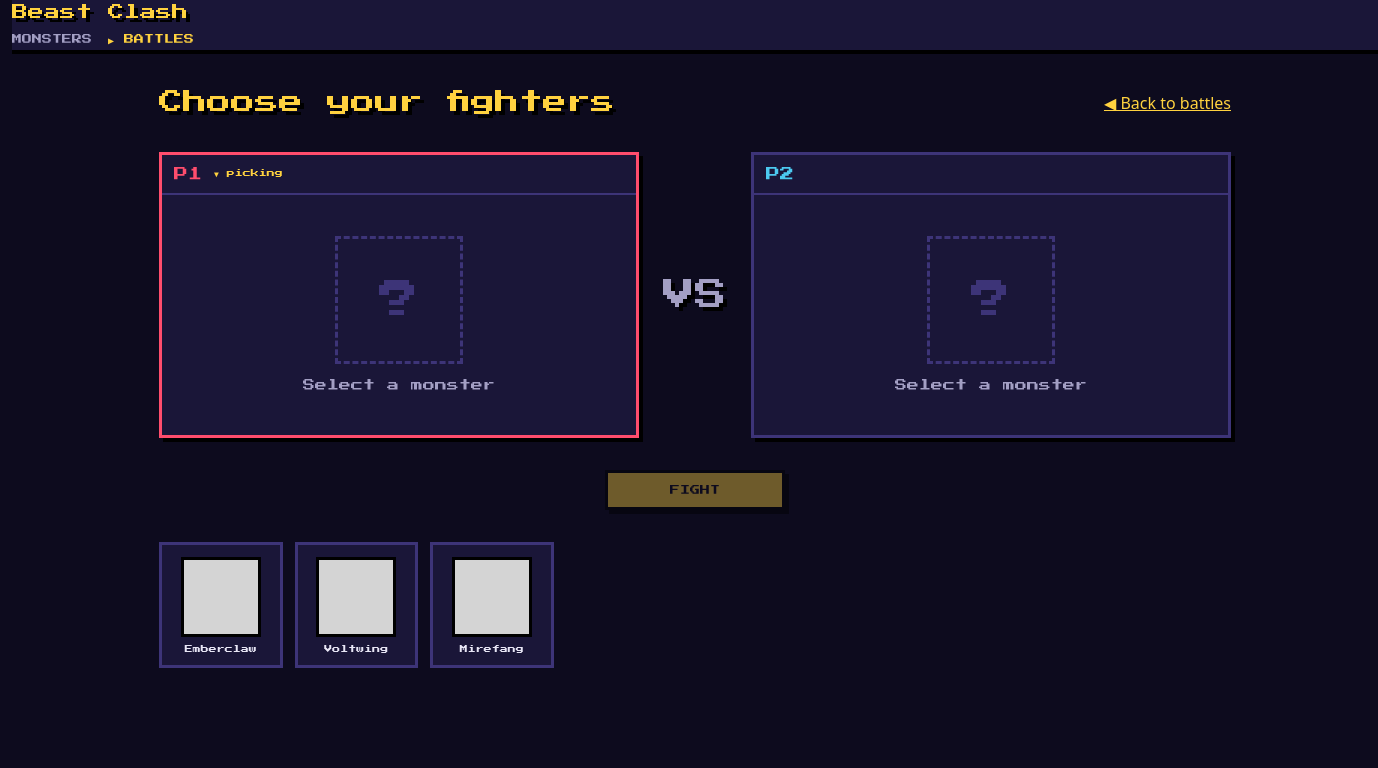
CharacterSelectPage › clears a slot
The image size is (1378, 768).
Click the button "Emberclaw".
click(221, 605)  # box top-left (159, 542), bottom-right (282, 668)
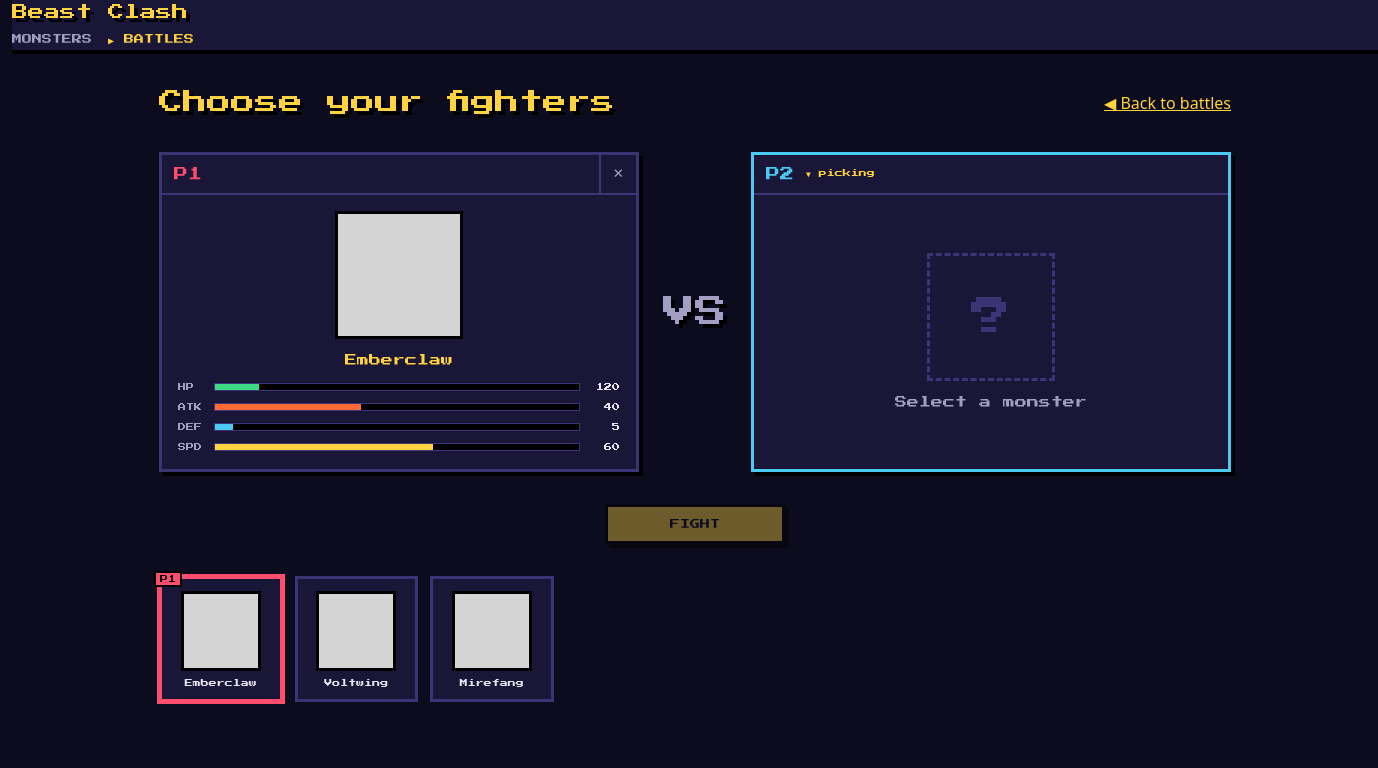
Click the button named "Clear P1".
click(617, 174)  # box top-left (599, 155), bottom-right (636, 193)
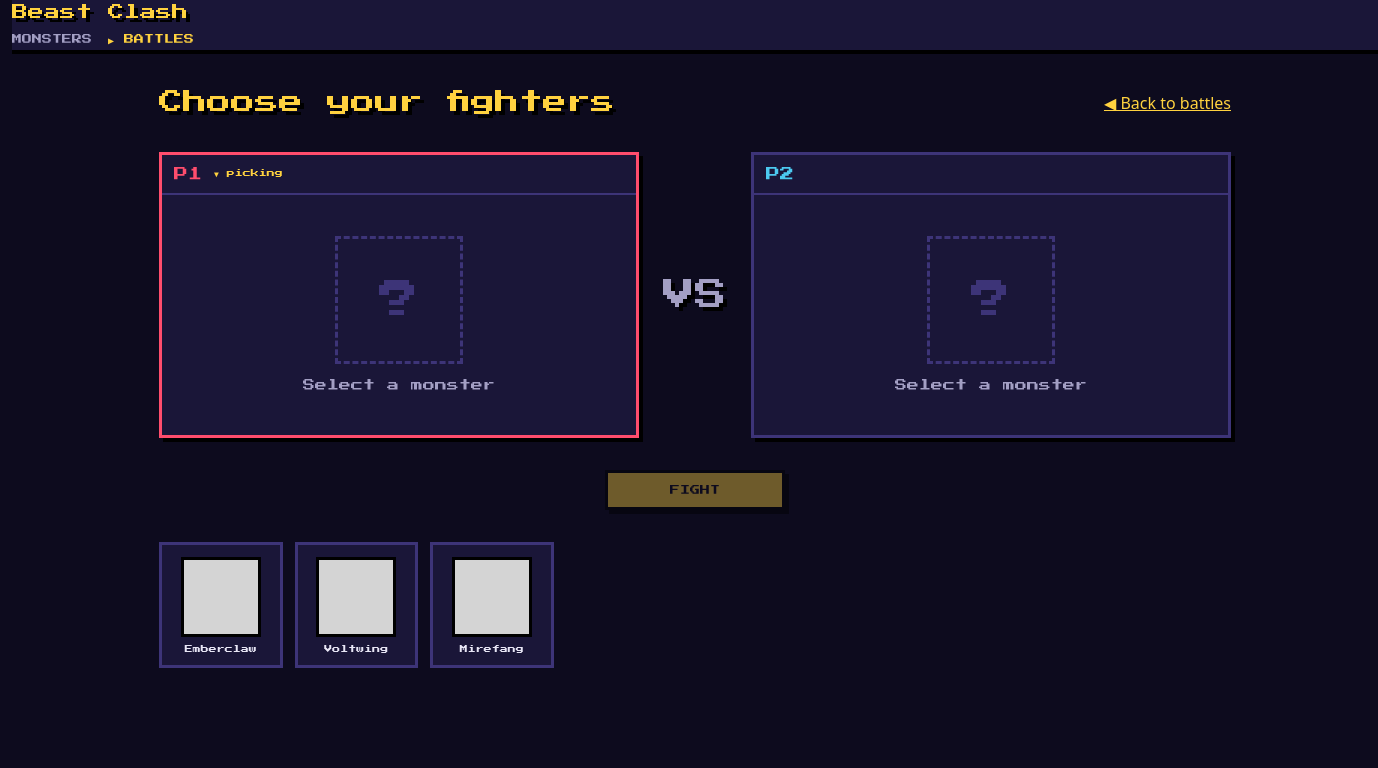
Now the button "Emberclaw" is enabled, box top-left (159, 542), bottom-right (282, 668)
